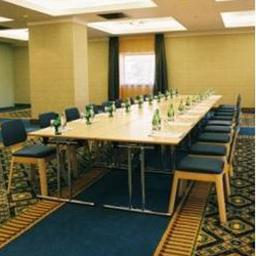Ventana: (118, 55, 158, 85)
